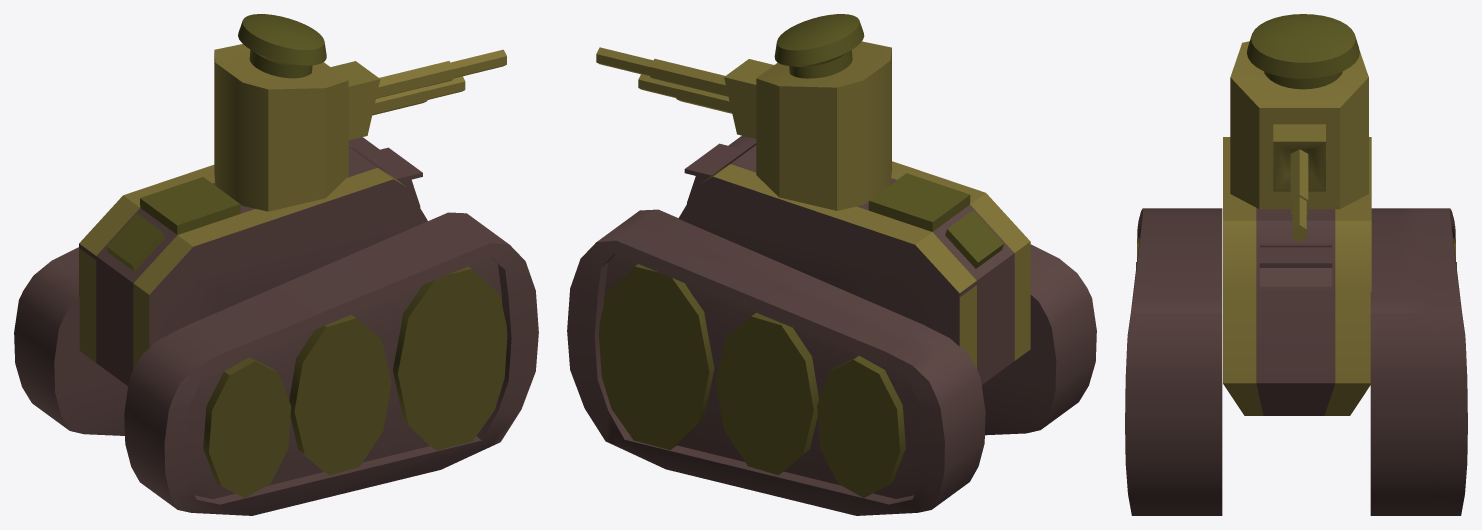
The model's file is Tank.glb.
3 renders of one model, left to right at view 1: azimuth 30°, elevation 25°; view 2: azimuth 150°, elevation 25°; view 3: azimuth 270°, elevation 25°, orthographic. The views are drawn at different scales.
Parts seen in each view (by area): view 1: Cylinder.002; view 2: Cylinder.002; view 3: Cylinder.002.
Boxes of the visible parts, box(x1,y1,x2,y2) form: Cylinder.002: box(14, 14, 538, 515); Cylinder.002: box(567, 14, 1096, 515); Cylinder.002: box(1125, 14, 1467, 515).
Size of the model in its own units: 1.54 by 1.48 by 1.04.
